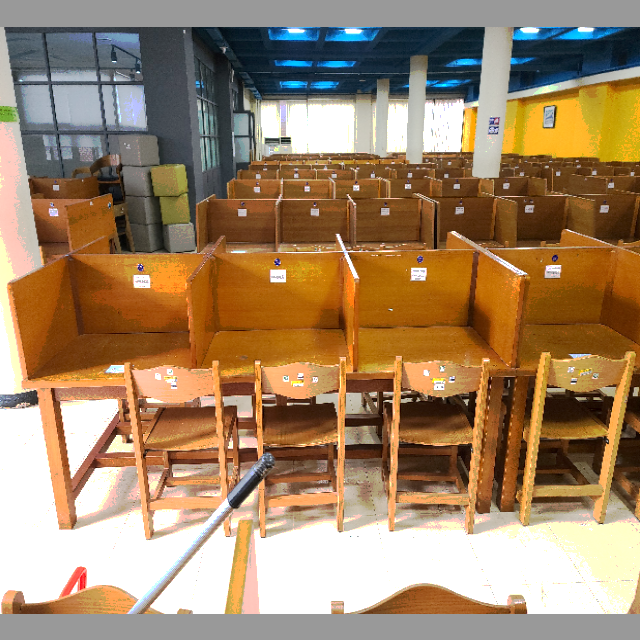empty: (200, 248, 344, 429), (49, 242, 185, 420), (363, 257, 503, 429)
